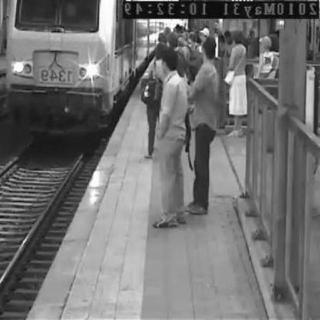other: (80, 50, 102, 91), (10, 58, 30, 78)
